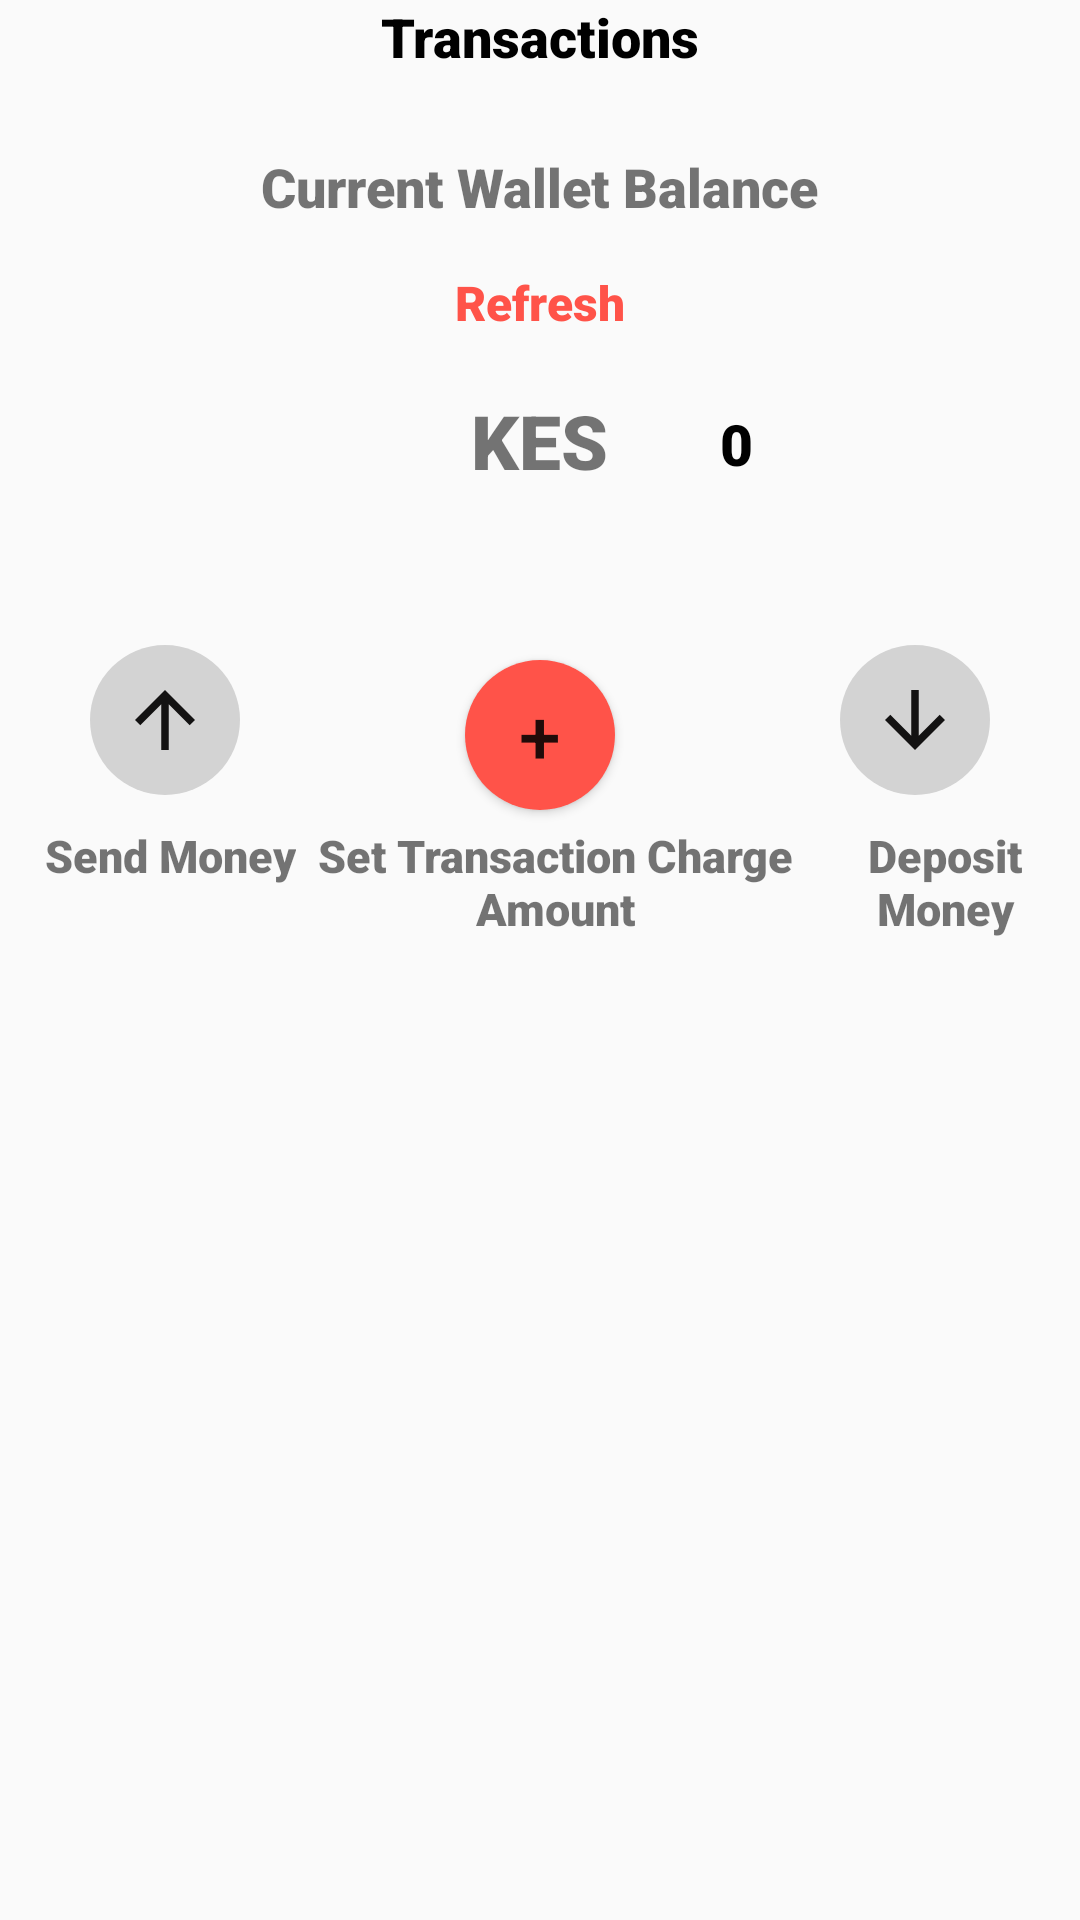

Point at icon controls on the screen. Image size 1080*1920, points as (x,y).
arrow downward: (915,720)
arrow upward: (165,720)
